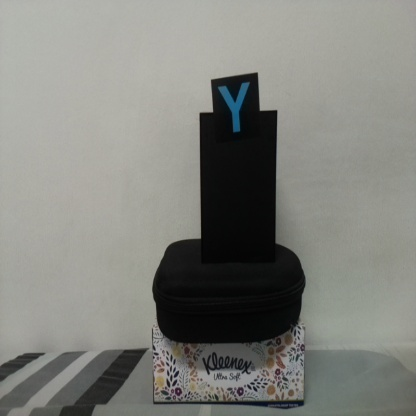id_14: (211, 78, 259, 139)
